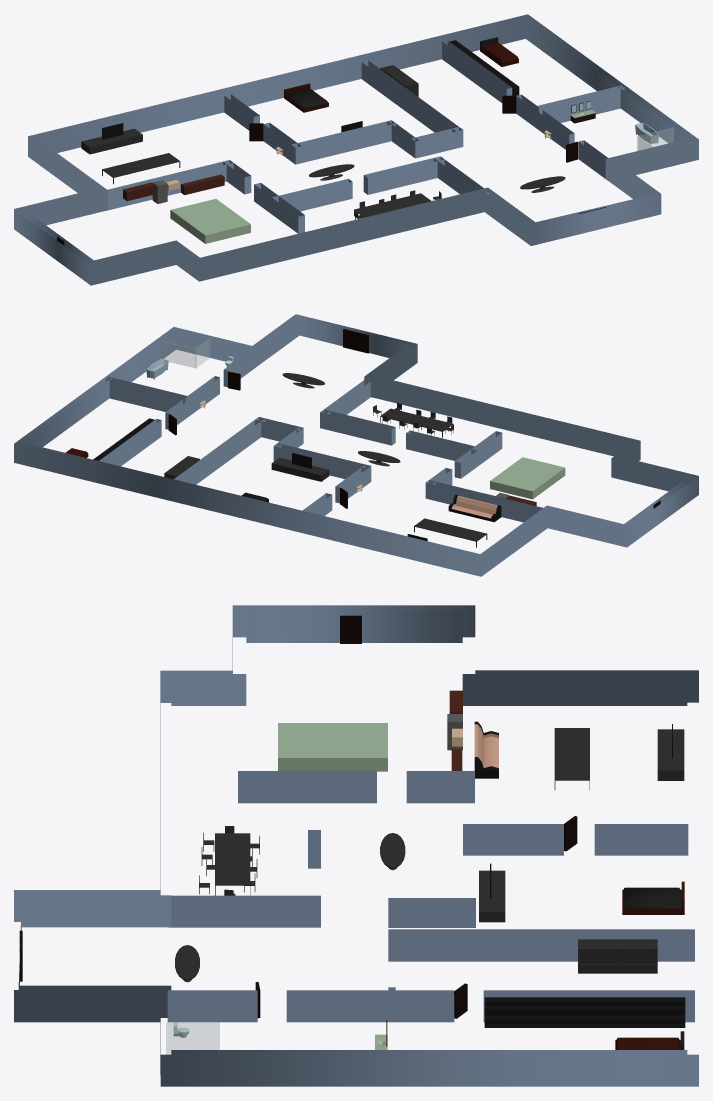
The model's file is level2_pro.FBX.
3 renders of one model, top to bottom at view 1: azimuth 30°, elevation 25°; view 2: azimuth 150°, elevation 25°; view 3: azimuth 270°, elevation 25°, orthographic. The views are drawn at different scales.
Visible parts, largest first — view 1: walls, island table, living room table, Box014, tv stand, living room table001, Box007, showerglass, counter, Box008, Box030, Cylinder001 (+2 smaller); view 2: walls, island table, showerglass, couch, living room table, tv stand001, living room table001, door1; view 3: walls, Box008, island table, Box030, living room table, living room table001, Box014, showerglass, tv stand, tv stand001, couch, Box007 (+2 smaller).
Part boxes in pixels (x1=…): walls: x1=14, y1=14, x2=698, y2=285; island table: x1=170, y1=199, x2=250, y2=243; living room table: x1=102, y1=153, x2=180, y2=184; Box014: x1=284, y1=83, x2=328, y2=112; tv stand: x1=81, y1=128, x2=142, y2=154; living room table001: x1=354, y1=193, x2=431, y2=217; Box007: x1=480, y1=37, x2=518, y2=66; showerglass: x1=637, y1=127, x2=673, y2=150; counter: x1=181, y1=174, x2=224, y2=195; Box008: x1=450, y1=40, x2=519, y2=95; Box030: x1=380, y1=65, x2=418, y2=96; Cylinder001: x1=309, y1=164, x2=354, y2=180; walls: x1=14, y1=314, x2=698, y2=576; island table: x1=490, y1=457, x2=565, y2=499; showerglass: x1=162, y1=338, x2=211, y2=368; couch: x1=448, y1=494, x2=501, y2=522; living room table: x1=414, y1=518, x2=487, y2=547; tv stand001: x1=271, y1=457, x2=329, y2=481; living room table001: x1=380, y1=408, x2=453, y2=437; door1: x1=343, y1=329, x2=368, y2=353; walls: x1=14, y1=605, x2=698, y2=1086; Box008: x1=484, y1=997, x2=685, y2=1027; island table: x1=278, y1=723, x2=387, y2=771; Box030: x1=578, y1=939, x2=657, y2=973; living room table: x1=554, y1=728, x2=589, y2=789; living room table001: x1=215, y1=833, x2=250, y2=895; Box014: x1=622, y1=881, x2=684, y2=914; showerglass: x1=166, y1=1022, x2=219, y2=1054; tv stand: x1=657, y1=729, x2=684, y2=780; tv stand001: x1=479, y1=870, x2=505, y2=922; couch: x1=474, y1=721, x2=498, y2=778; Box007: x1=615, y1=1031, x2=684, y2=1049.
Bounding box in the file's own units: 142 × 5.63 × 91.58.
